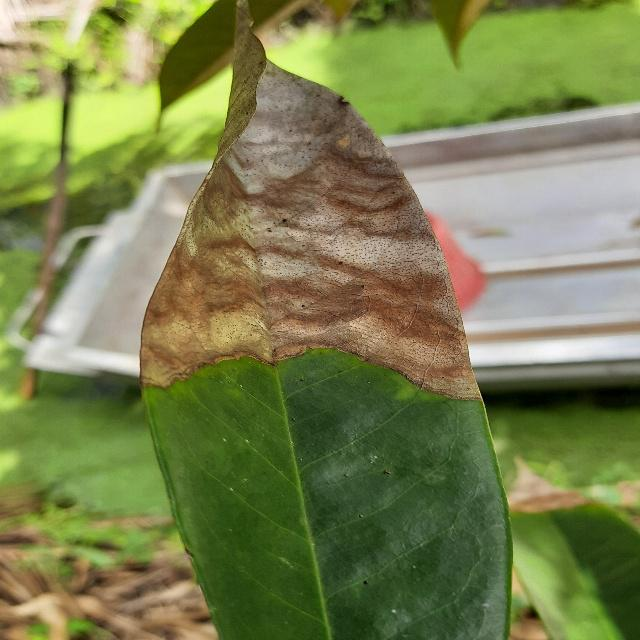Leaf Blight: (135, 0, 522, 639)
